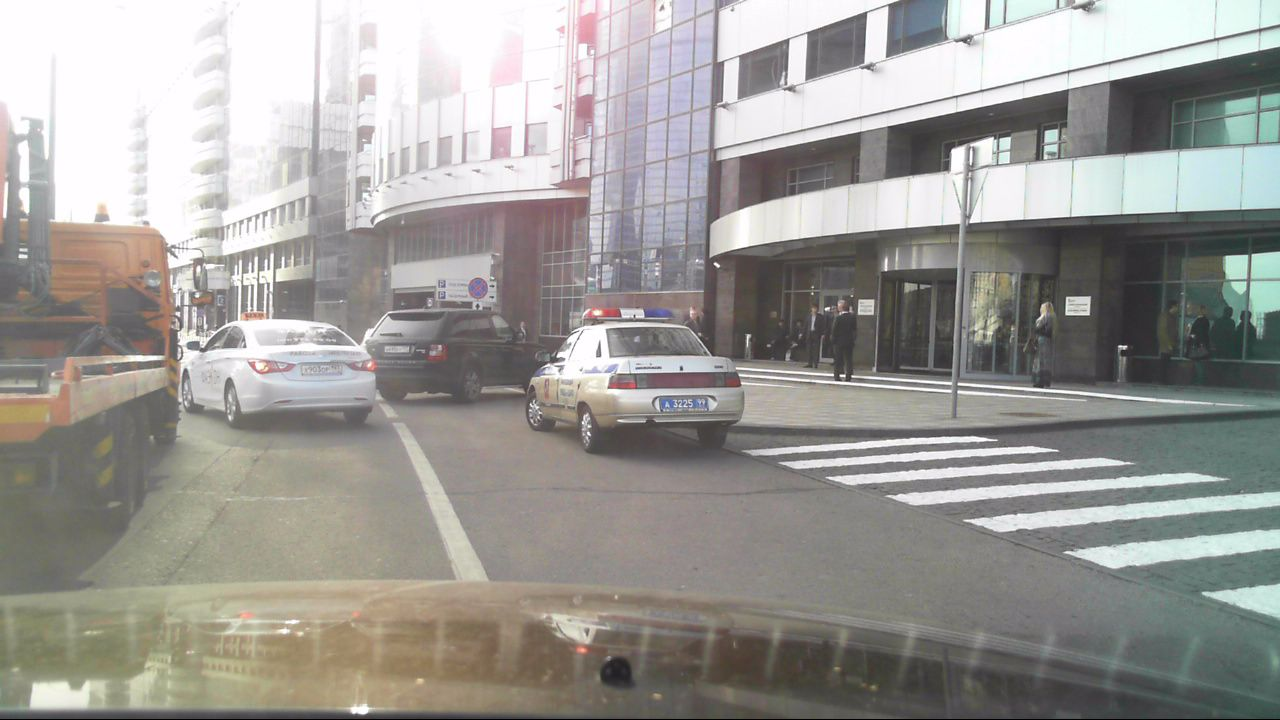No Parking: (470, 279, 488, 302)
